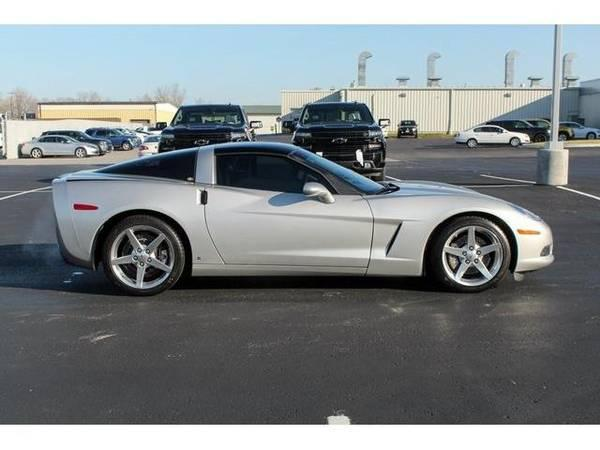Front_Bumper: (510, 219, 554, 271)
Front_Fender: (365, 191, 548, 276)
Front_Right_Door: (206, 185, 374, 276)
Front_Right_Window: (217, 152, 339, 198)
Front_Windshield: (302, 149, 395, 193)
Rear_Bumper: (59, 238, 95, 270)
Rear_Fender: (54, 151, 227, 276)
Roof: (197, 140, 366, 195)
Wheel: (104, 215, 185, 292), (433, 216, 512, 291)
